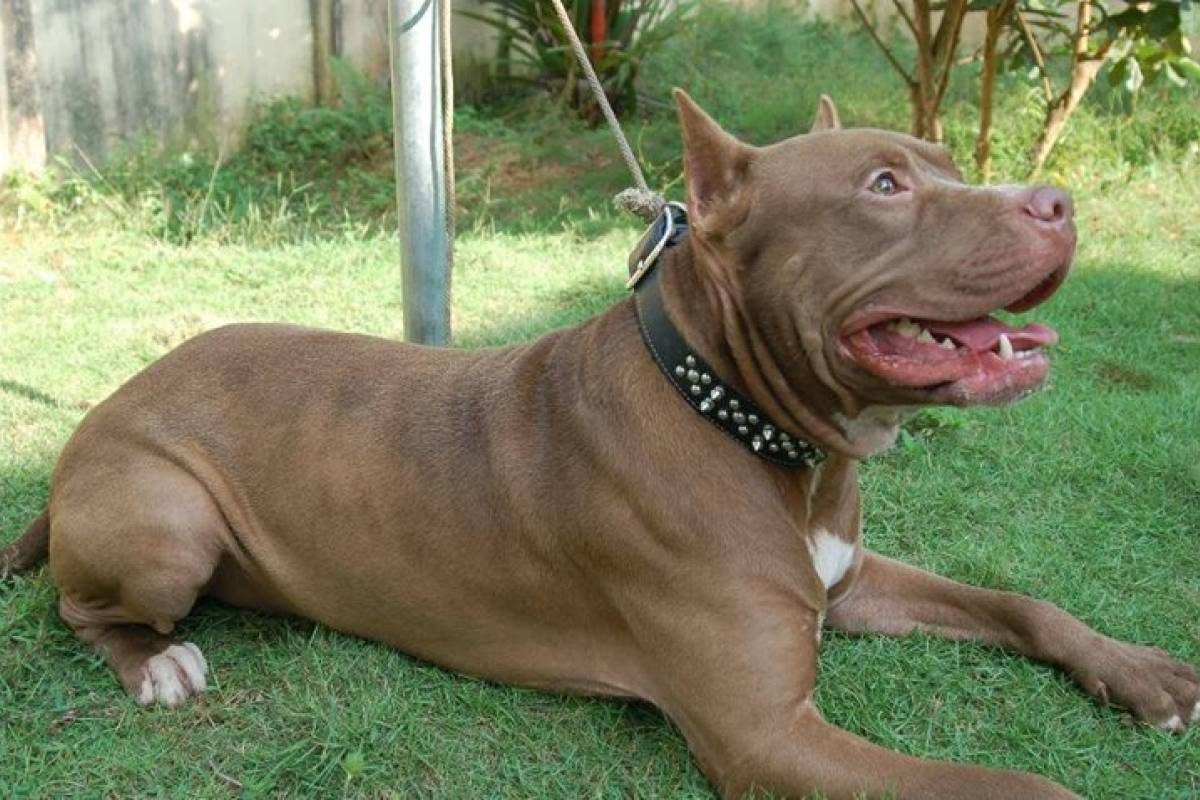Perro Pitbull: (476, 72, 1144, 662)
